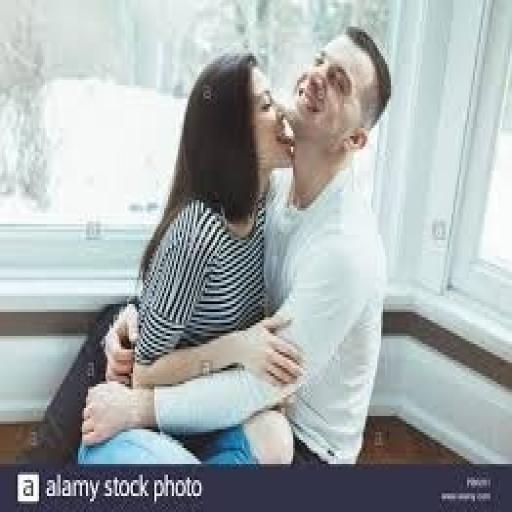hugging: (76, 24, 395, 467)
